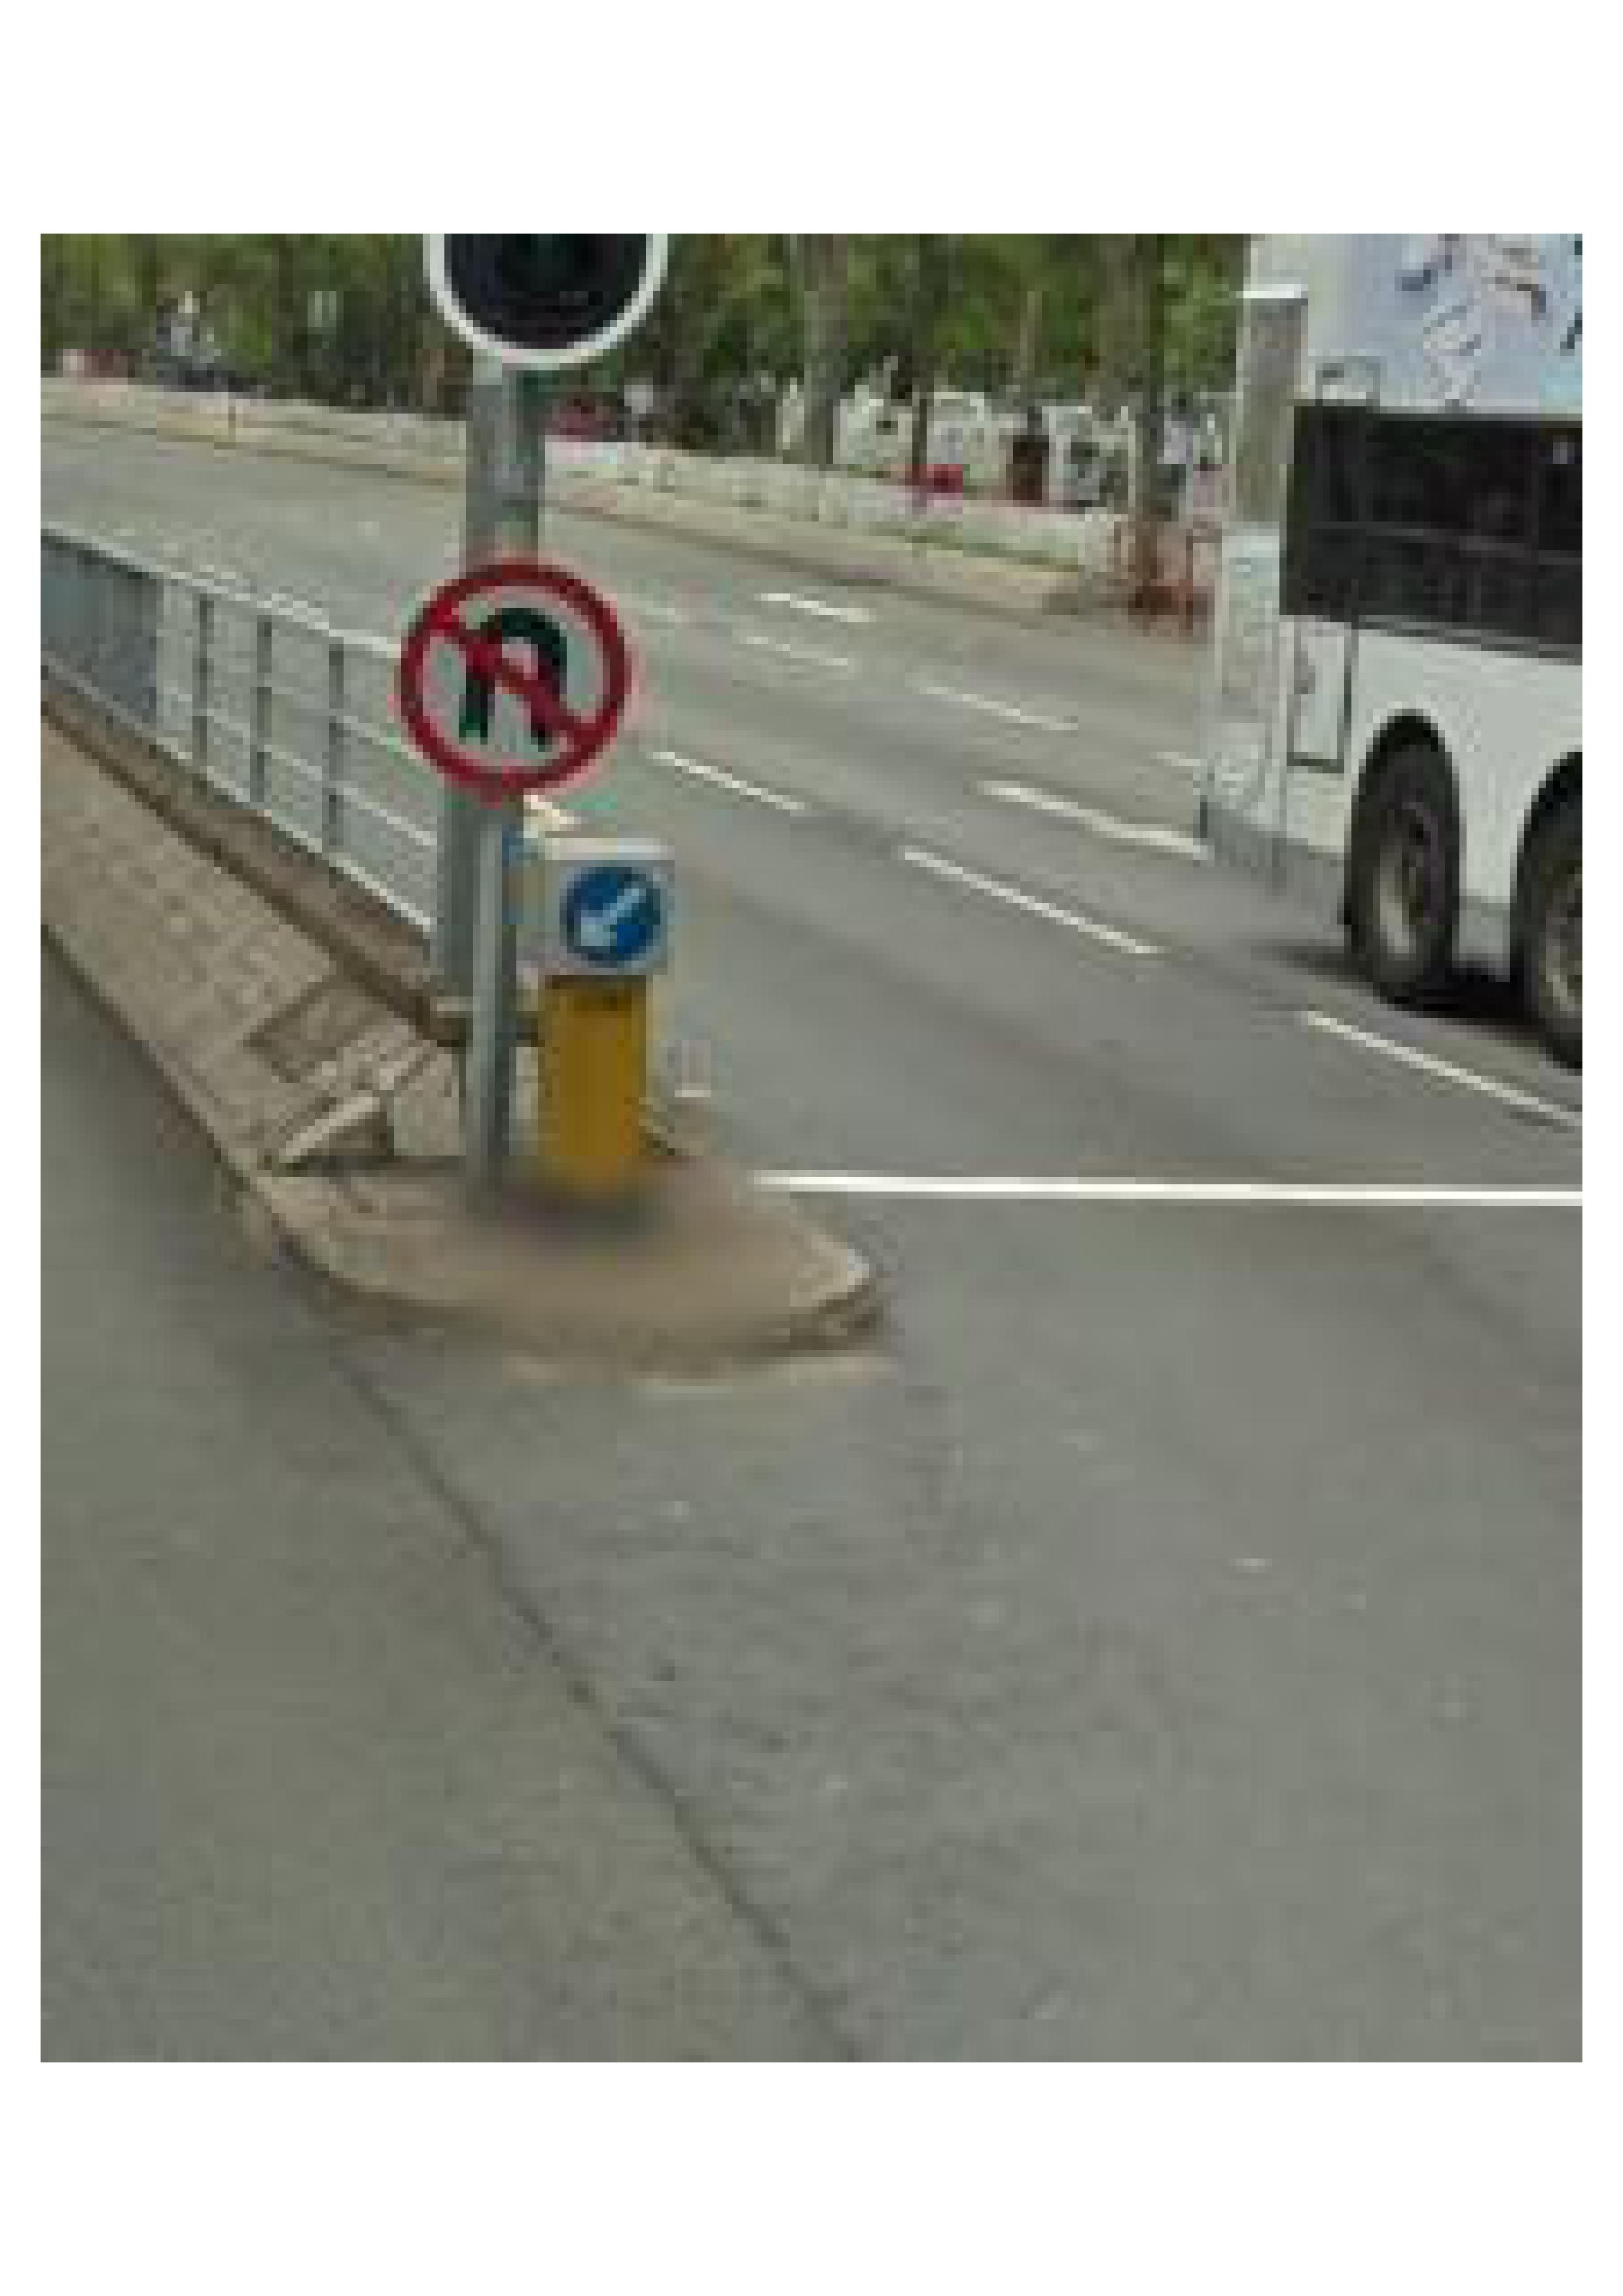No Uturn: (400, 562, 622, 795)
